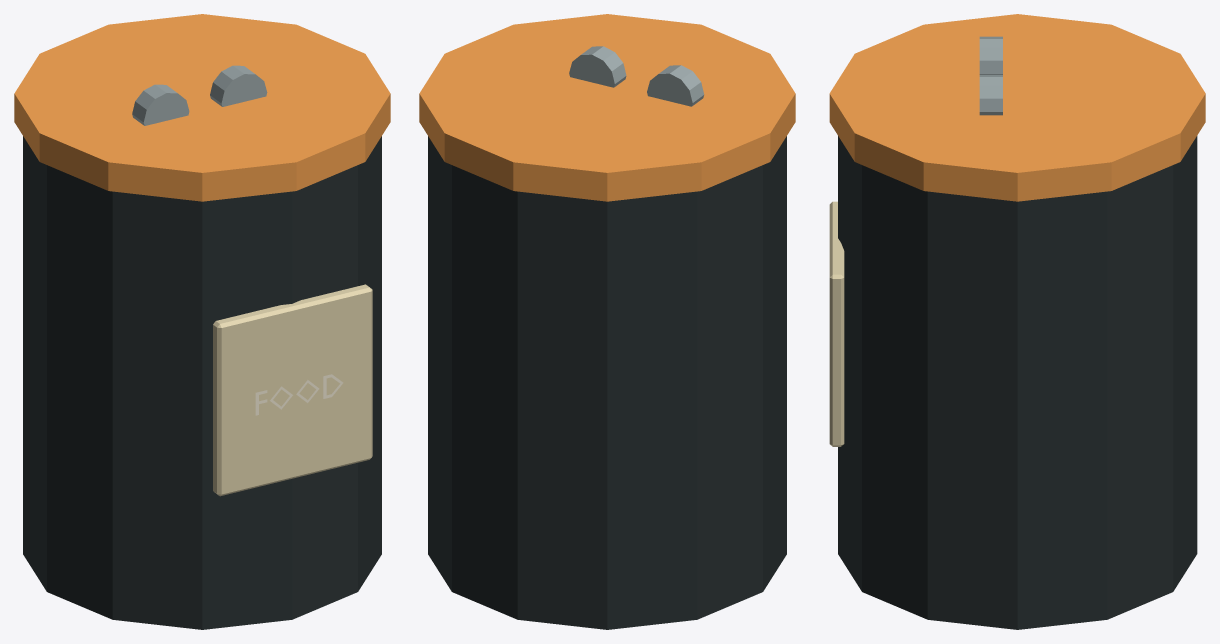
File: Bear_Canister.glb
3 views of the same model, side by side, from view 1: azimuth 30°, elevation 25°; view 2: azimuth 150°, elevation 25°; view 3: azimuth 270°, elevation 25° (orthographic).
Visible parts, largest first — view 1: Bear_Canister; view 2: Bear_Canister; view 3: Bear_Canister.
Part boxes in pixels (x1,y1,x2,y2): Bear_Canister: [14, 14, 390, 629]; Bear_Canister: [419, 14, 795, 629]; Bear_Canister: [829, 14, 1205, 629].
Bounding box in the file's own units: 0.356 × 0.51 × 0.361.
